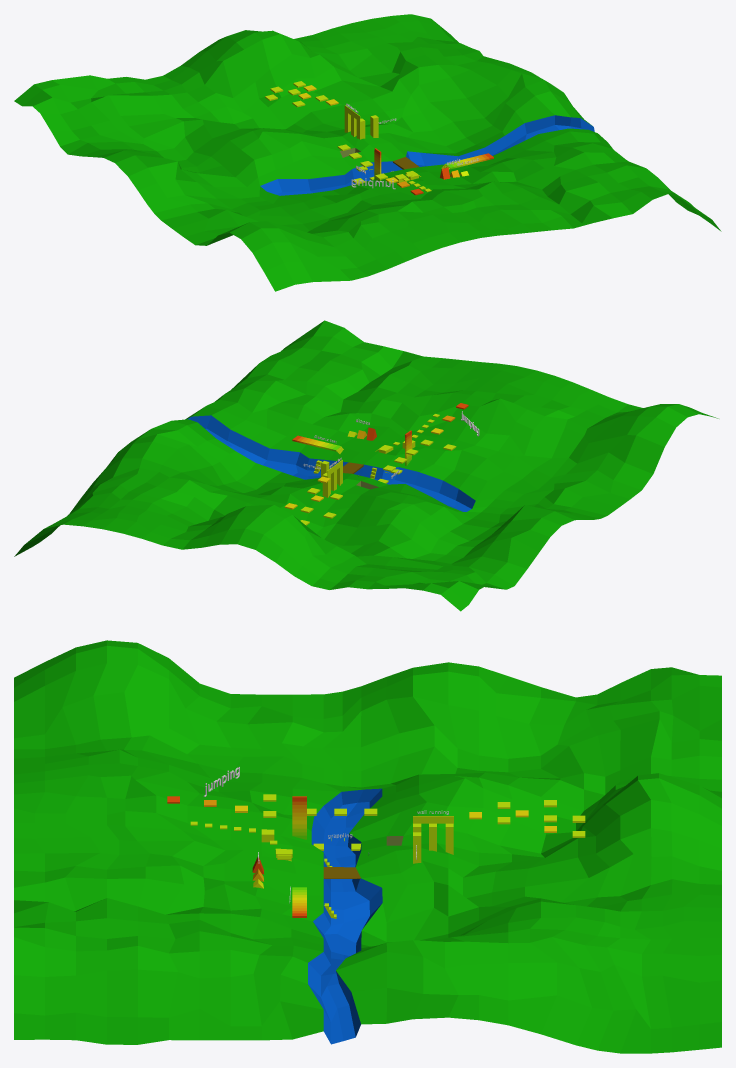
The model's file is test level.fbx.
3 views of the same model, one above another, from view 1: azimuth 30°, elevation 25°; view 2: azimuth 150°, elevation 25°; view 3: azimuth 270°, elevation 25° (orthographic). The views are drawn at different scales.
Visible parts, largest first — view 1: pPlane1; view 2: pPlane1; view 3: pPlane1.
Boxes of the visible parts, x1,y1,x2,y2 form: pPlane1: [14, 14, 721, 291]; pPlane1: [14, 320, 718, 611]; pPlane1: [14, 640, 721, 1053].
Size of the model in its own units: 249 by 59.33 by 252.
Materials: 23 (1 with a texture image).
